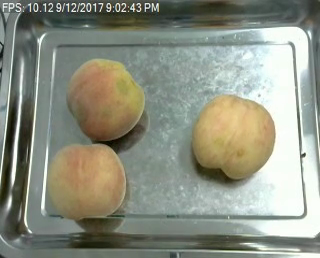Peach: (191, 94, 275, 179), (66, 57, 145, 140), (48, 143, 127, 220)
